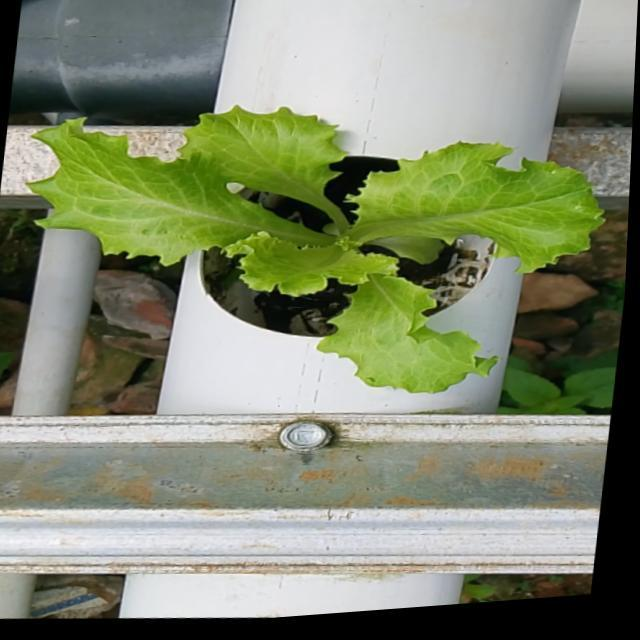Baby: (30, 112, 607, 398)
